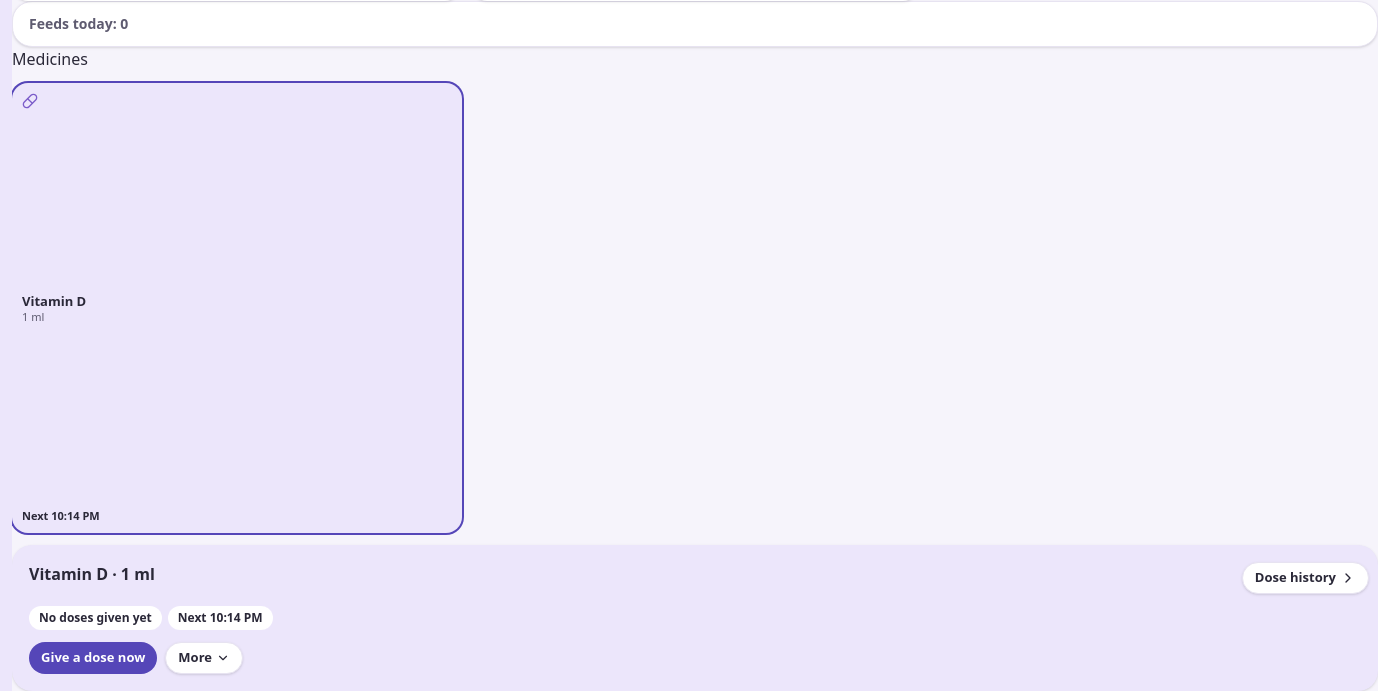
Test: the main button is purple when nothing is due, and still says Give a dose now
(page scrolled)
Click the button "More": (204, 658) [165,642,243,674]
(page scrolled)
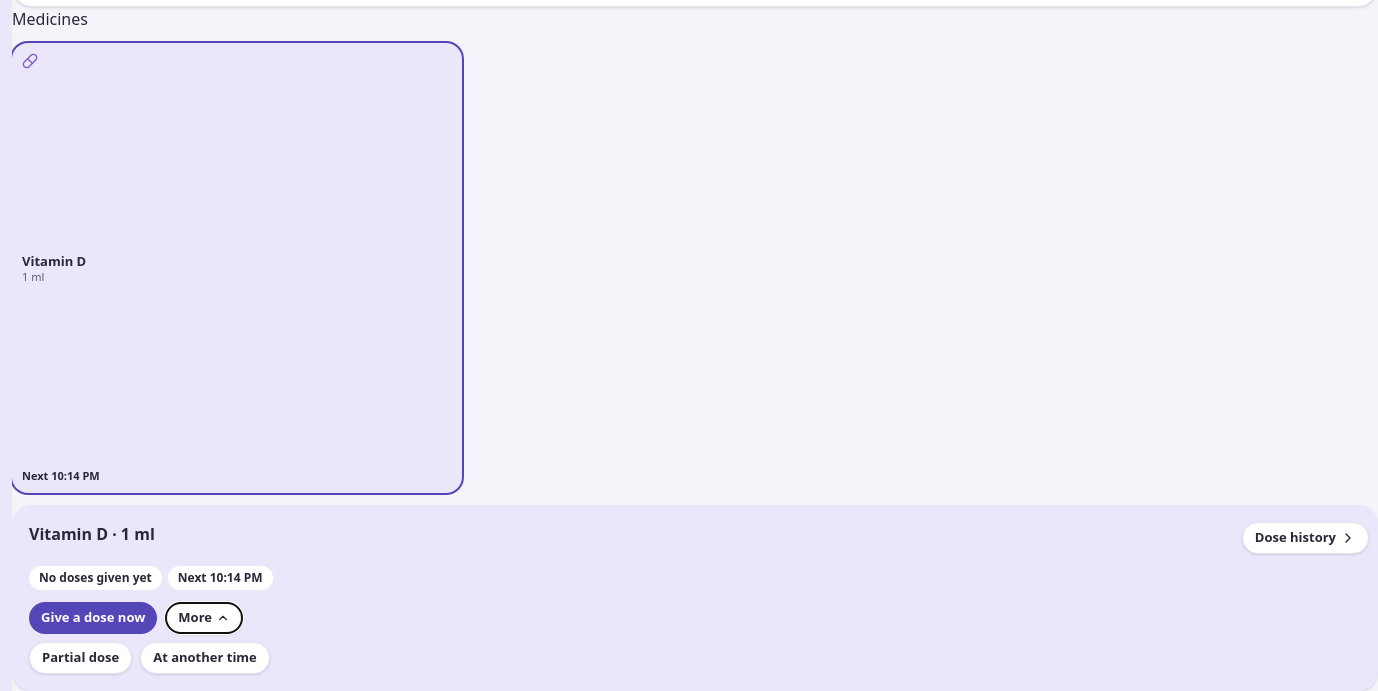
Expected: the button "Partial dose" is shown, [29,642,132,674]
